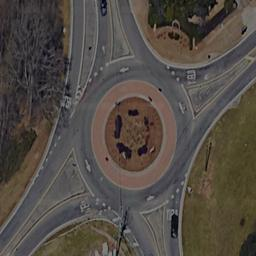Car: (170, 212, 178, 239), (98, 1, 108, 16)
Chevron: (112, 210, 142, 255), (72, 86, 84, 110)
Stright Arrow: (115, 65, 129, 78), (83, 158, 92, 173), (145, 194, 157, 201), (178, 102, 185, 114), (102, 43, 107, 56)
White Dashed Line: (33, 119, 71, 181), (168, 176, 187, 202), (88, 60, 111, 79), (168, 66, 183, 86), (93, 196, 112, 209)
